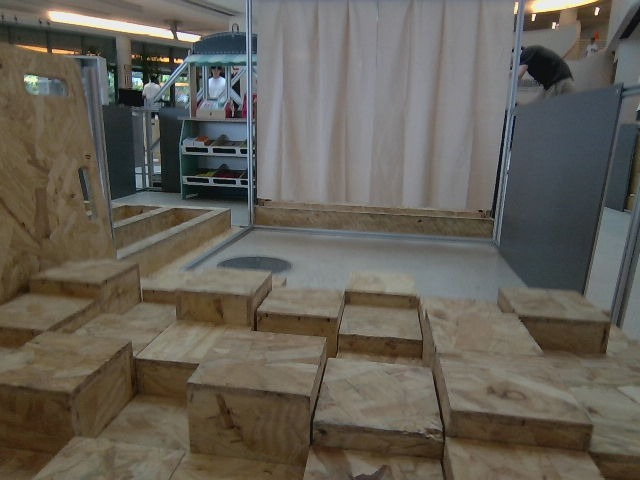curtain: (253, 0, 496, 170)
